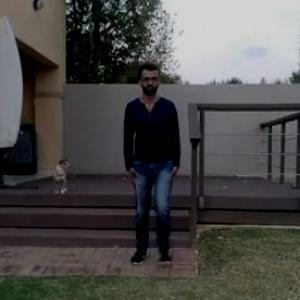follow: (112, 48, 179, 297)
